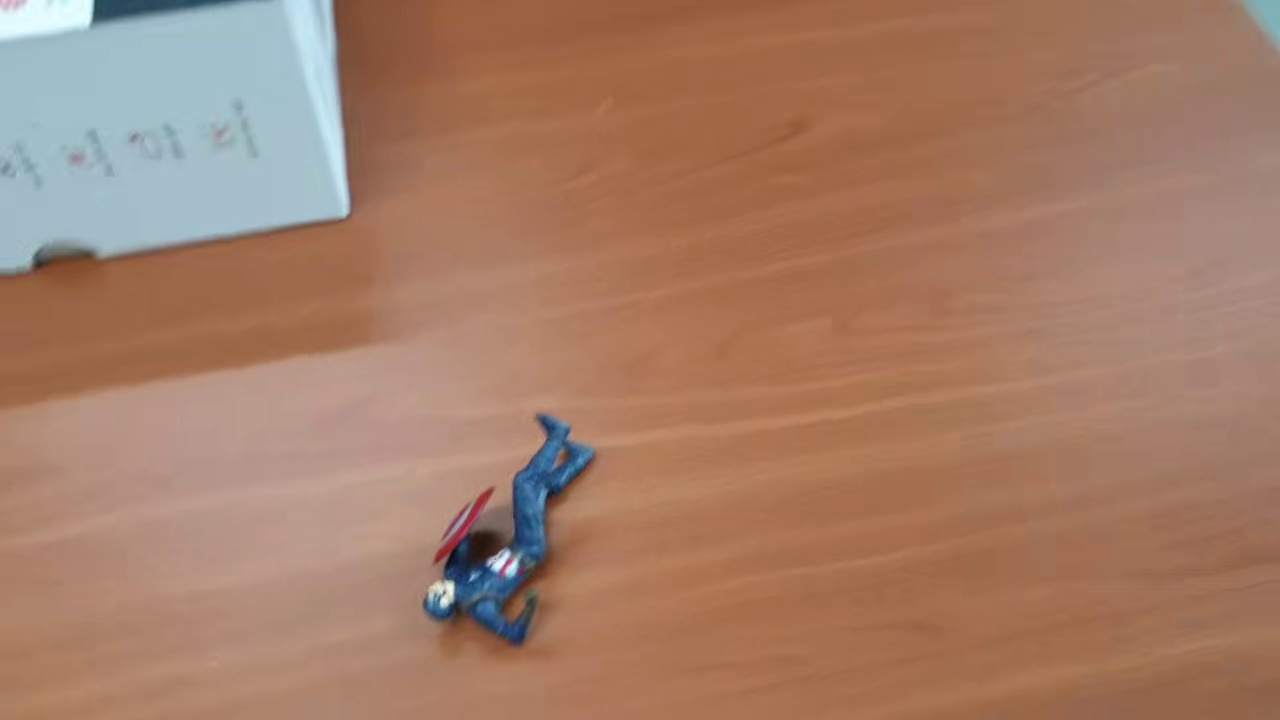people: (419, 409, 600, 646)
